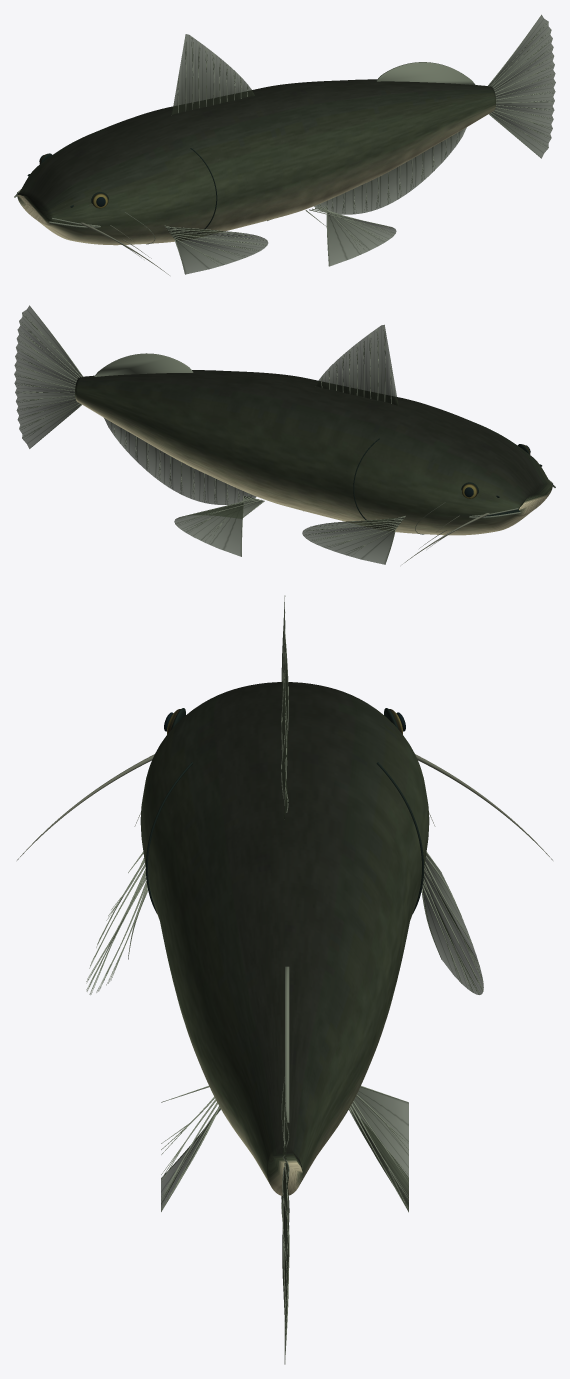
Rendered from black-bullhead.glb.
3 views of the same model, one above another, from view 1: azimuth 30°, elevation 25°; view 2: azimuth 150°, elevation 25°; view 3: azimuth 270°, elevation 25° (orthographic). The views are drawn at different scales.
Parts seen in each view (by area): view 1: black-bullhead specimen; view 2: black-bullhead specimen; view 3: black-bullhead specimen.
Boxes of the visible parts, <box> form: black-bullhead specimen: <box>14,14,555,275</box>; black-bullhead specimen: <box>14,305,555,564</box>; black-bullhead specimen: <box>17,595,552,1364</box>.
Bounding box in the file's own units: 2.02 × 0.8726 × 0.8964.
Materials: 14 (5 with a texture image).
